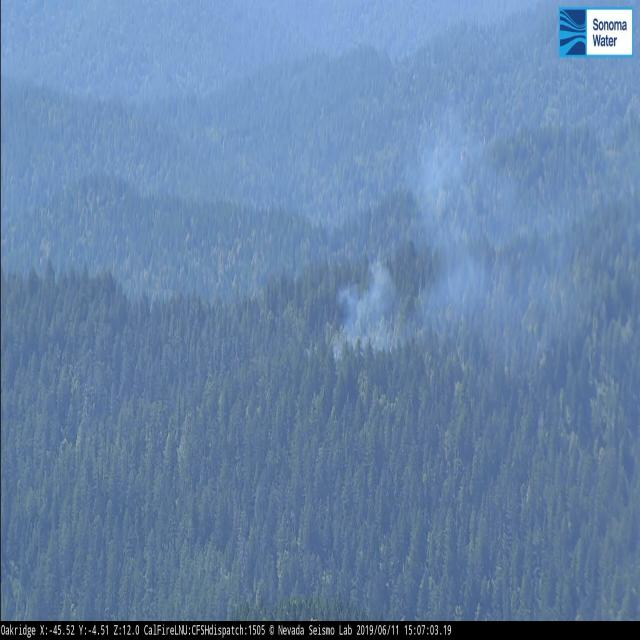smoke: (330, 233, 487, 359)
